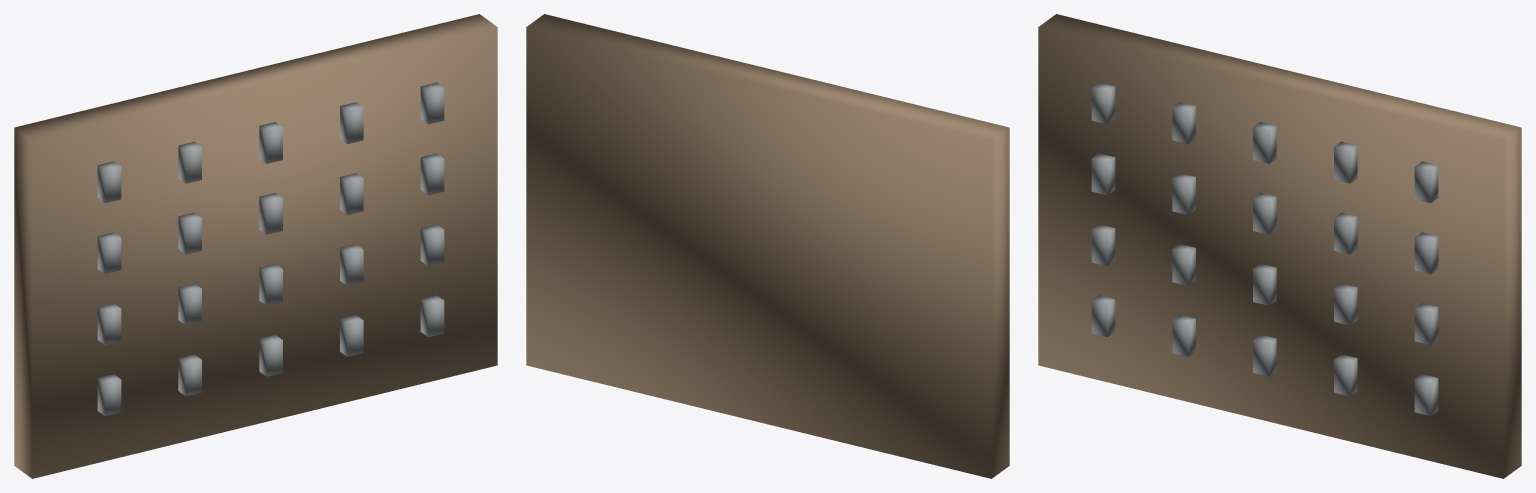
File: key_cubby_rack__wide.glb
The picture shows the model from 3 angles, left to right: view 1: azimuth 30°, elevation 25°; view 2: azimuth 150°, elevation 25°; view 3: azimuth 330°, elevation 25°; orthographic projection.
Visible parts, largest first — view 1: world; view 2: world; view 3: world.
Part boxes in pixels (x1,y1,x2,y2): world: (14,14,497,478); world: (526,14,1009,478); world: (1038,14,1521,478).
Size of the model in its own units: 0.8928 by 0.62 by 0.0925.
